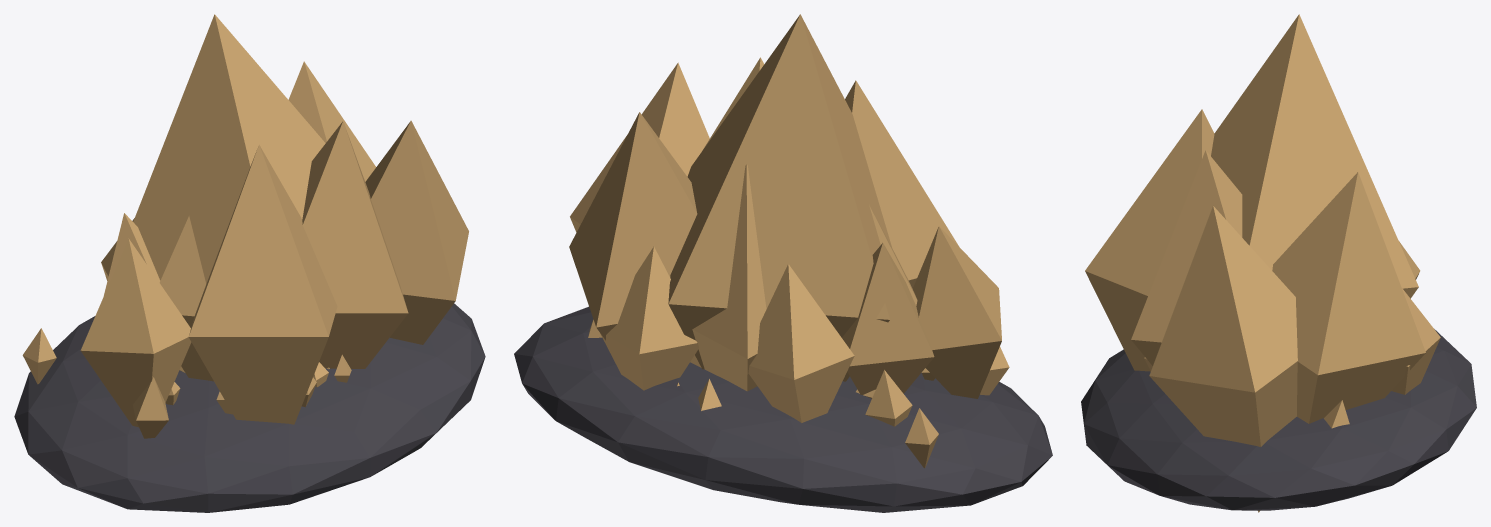
Rendered from scheelite.glb.
The picture shows the model from 3 angles, left to right: view 1: azimuth 30°, elevation 25°; view 2: azimuth 150°, elevation 25°; view 3: azimuth 270°, elevation 25°; orthographic projection. The views are drawn at different scales.
Parts seen in each view (by area): view 1: Scheelite; view 2: Scheelite; view 3: Scheelite.
Boxes of the visible parts, <box> form: Scheelite: <box>14,14,485,512</box>; Scheelite: <box>514,14,1052,512</box>; Scheelite: <box>1081,14,1476,512</box>.
Bounding box in the file's own units: 3.96 × 4 × 3.03.
